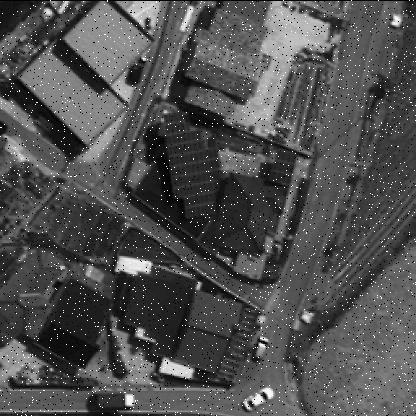solar-pv-panel: (162, 111, 220, 218), (268, 148, 297, 185)
